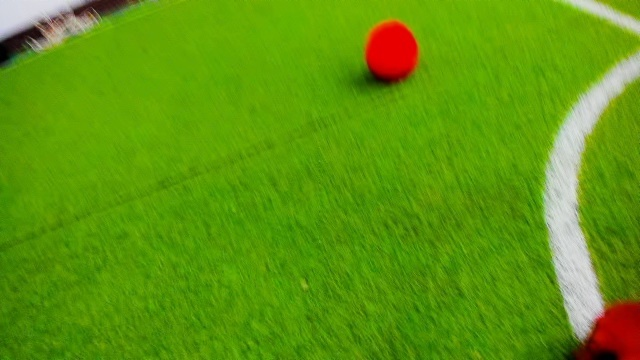ball: (360, 16, 425, 87)
